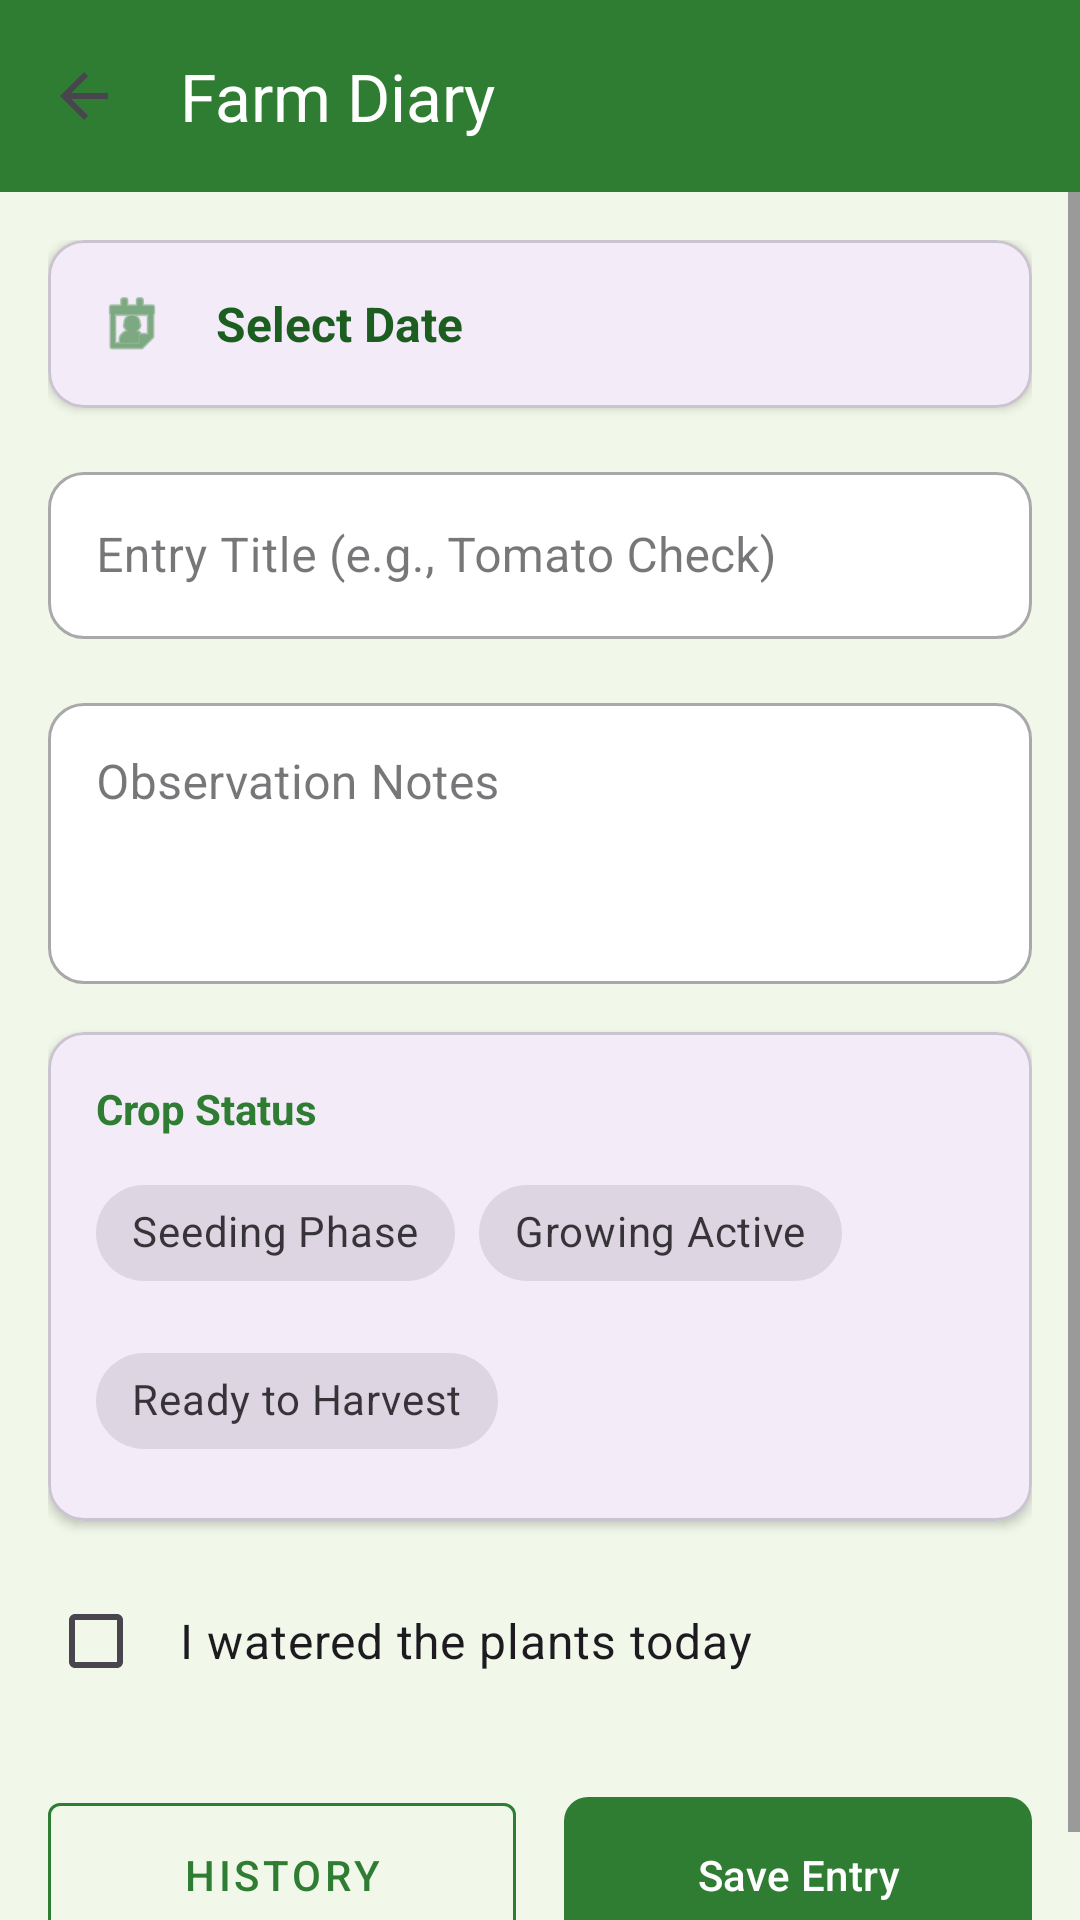

Named icons in this screenshot (1080x1920) and their bounding boxes, (x1=x1, y1=y1, x2=x2, y2=y2):
calendar: (x1=109, y1=297, x2=155, y2=350)
